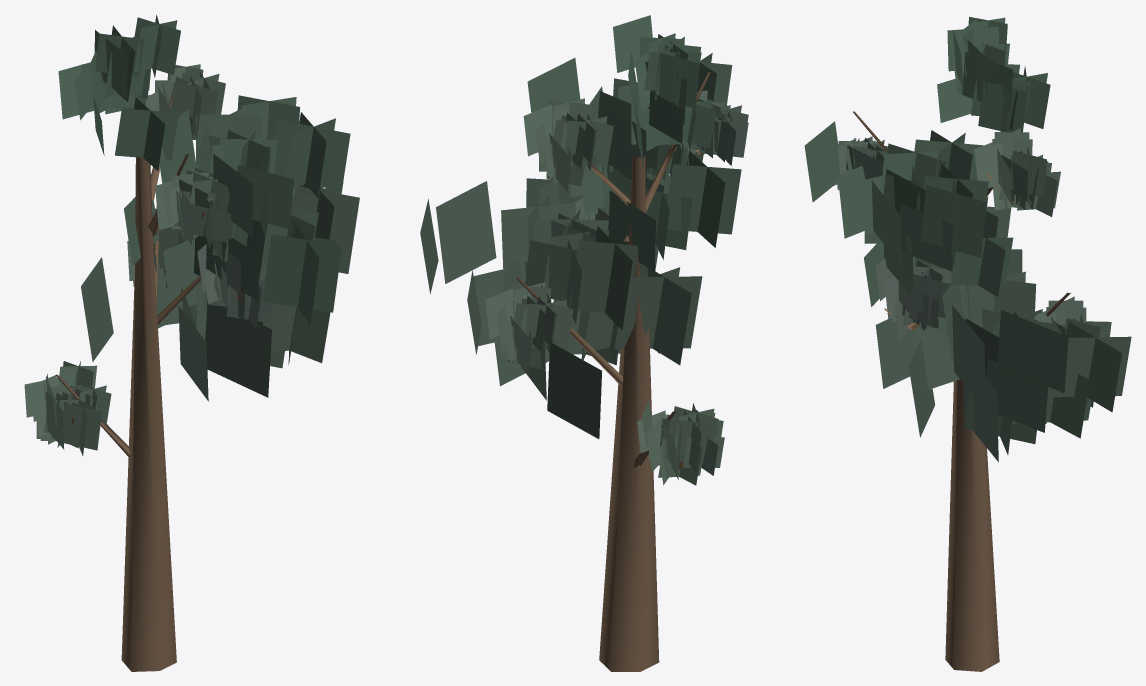
The model's file is frost_land_scatter_c17_12.glb.
3 renders of one model, left to right at view 1: azimuth 30°, elevation 25°; view 2: azimuth 150°, elevation 25°; view 3: azimuth 270°, elevation 25°, orthographic. The views are drawn at different scales.
Visible parts, largest first — view 1: frost_land_scatter_c17_12; view 2: frost_land_scatter_c17_12; view 3: frost_land_scatter_c17_12.
Boxes of the visible parts, x1,y1,x2,y2 form: frost_land_scatter_c17_12: [24, 15, 359, 671]; frost_land_scatter_c17_12: [420, 15, 748, 671]; frost_land_scatter_c17_12: [804, 17, 1131, 671].
Bounding box in the file's own units: 3.54 × 6.79 × 3.49.
